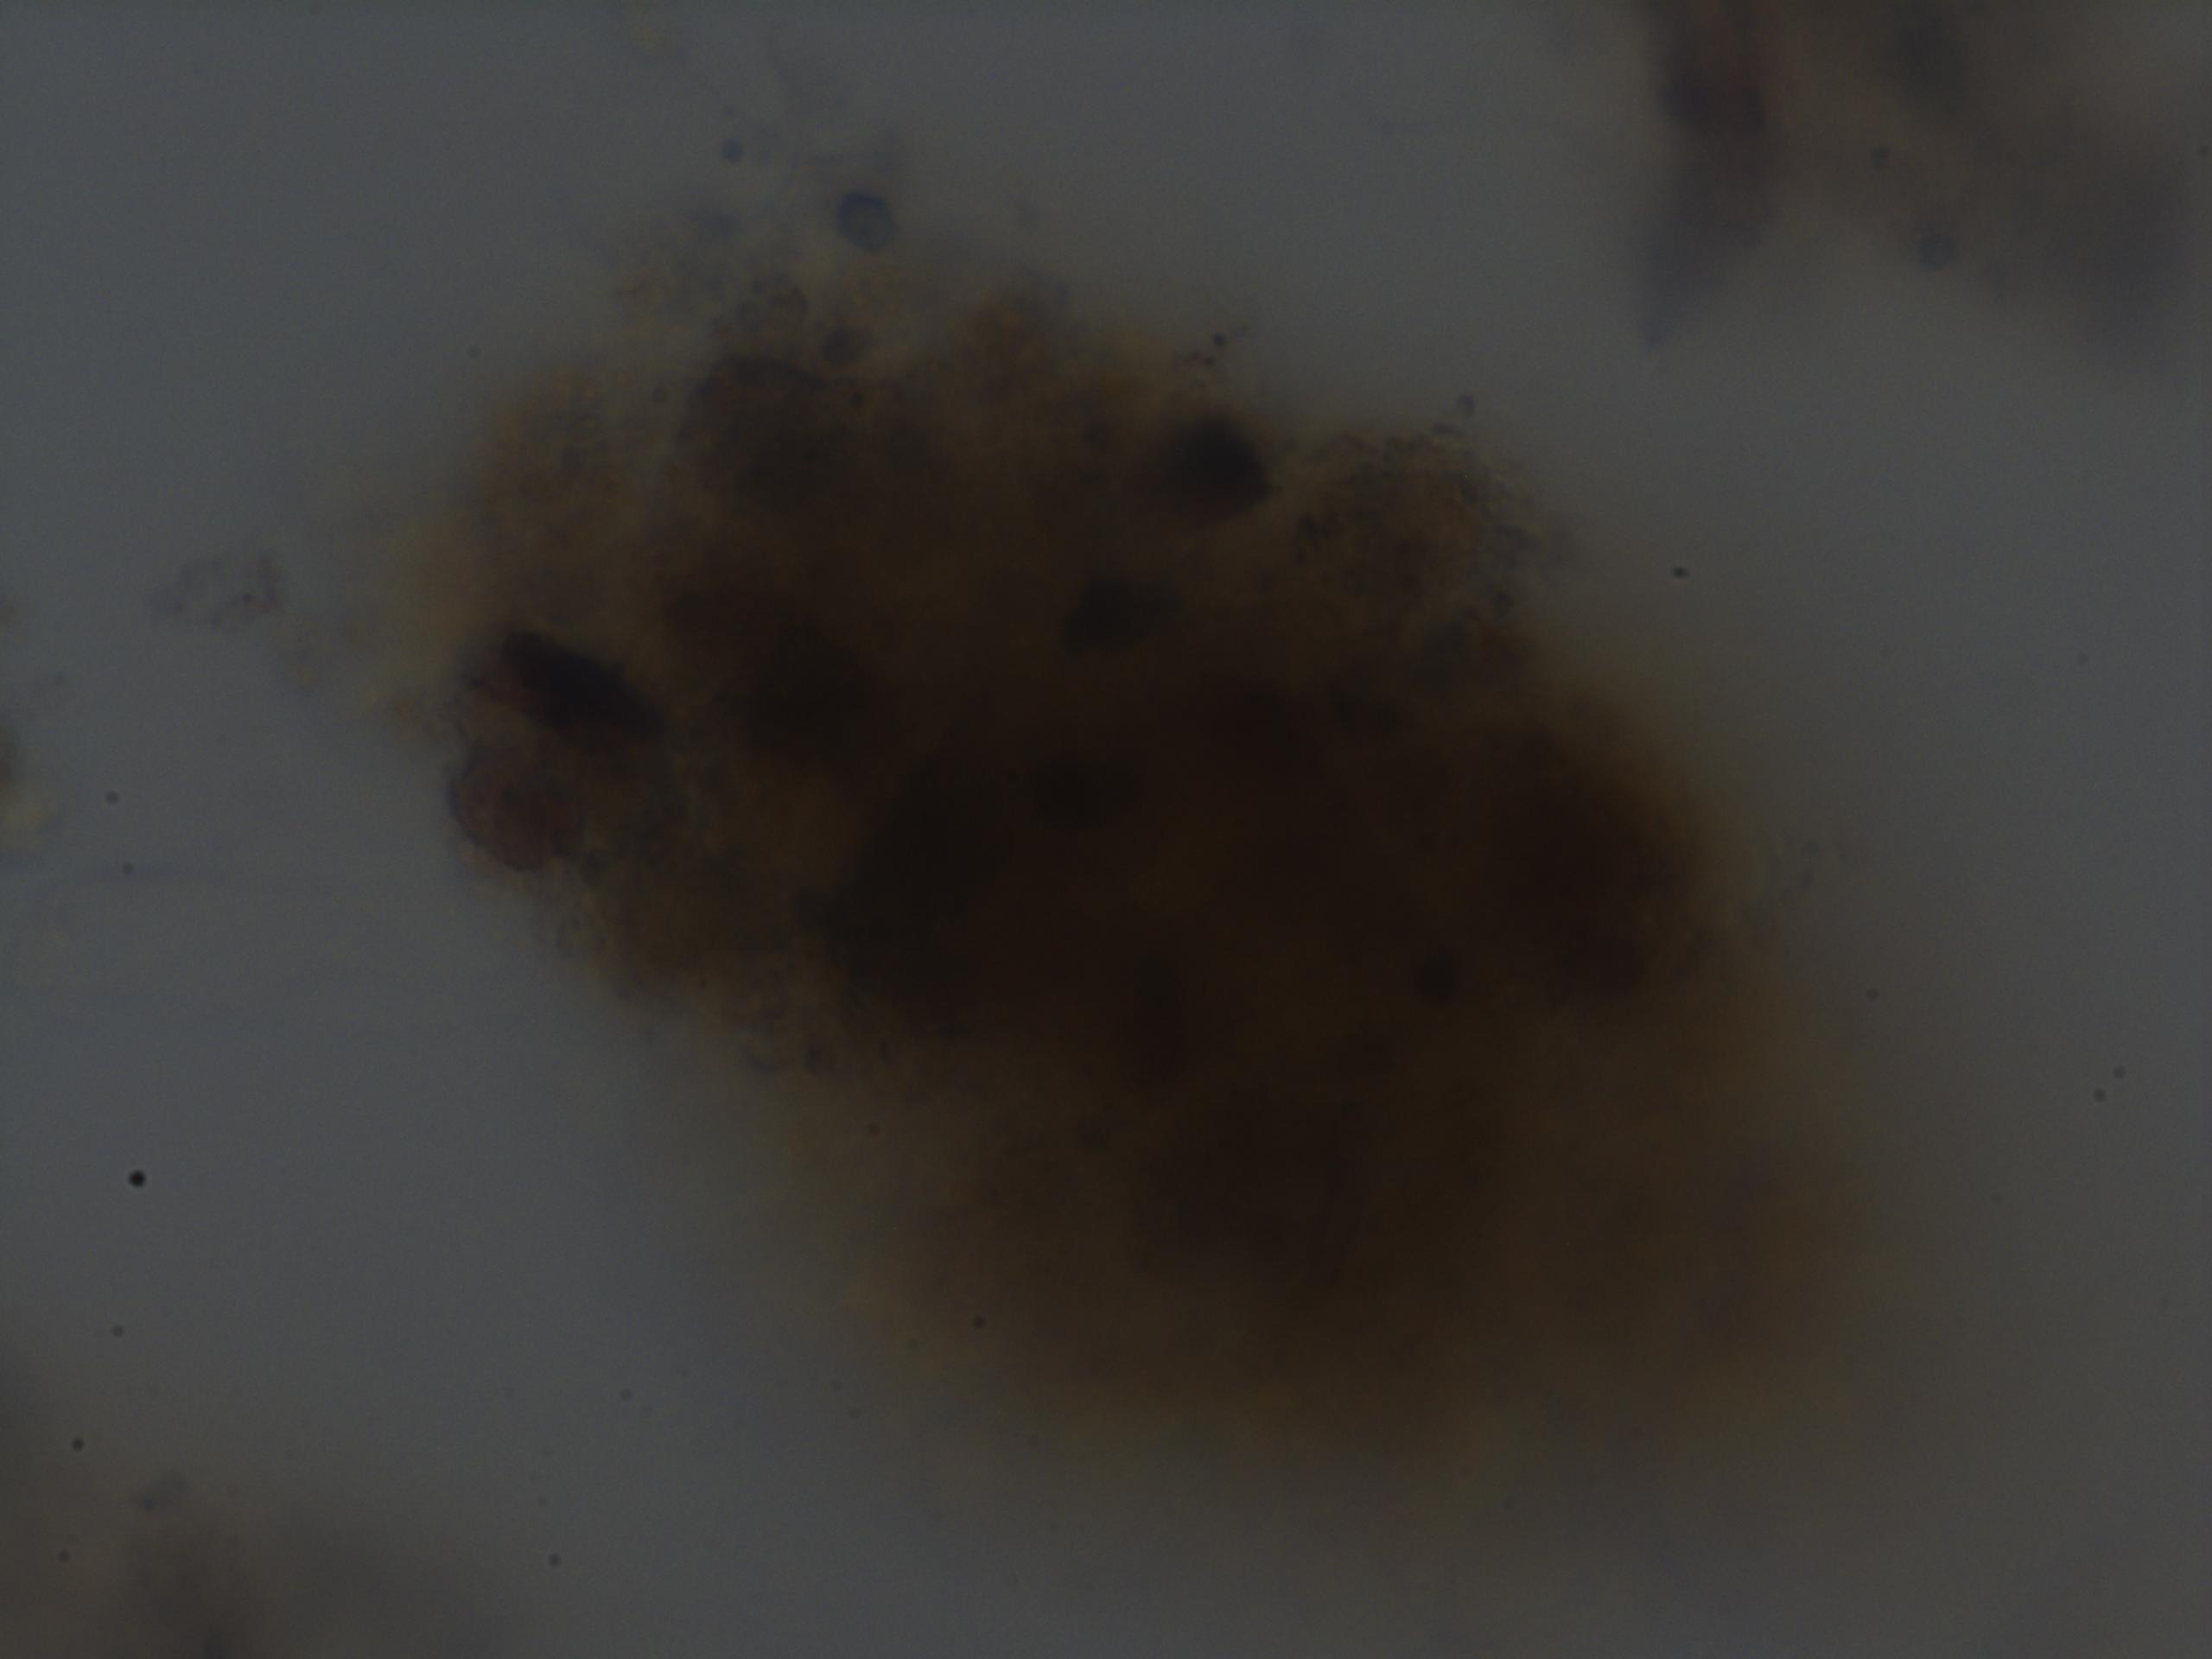spherical_floc: (413, 281, 1885, 1481)
